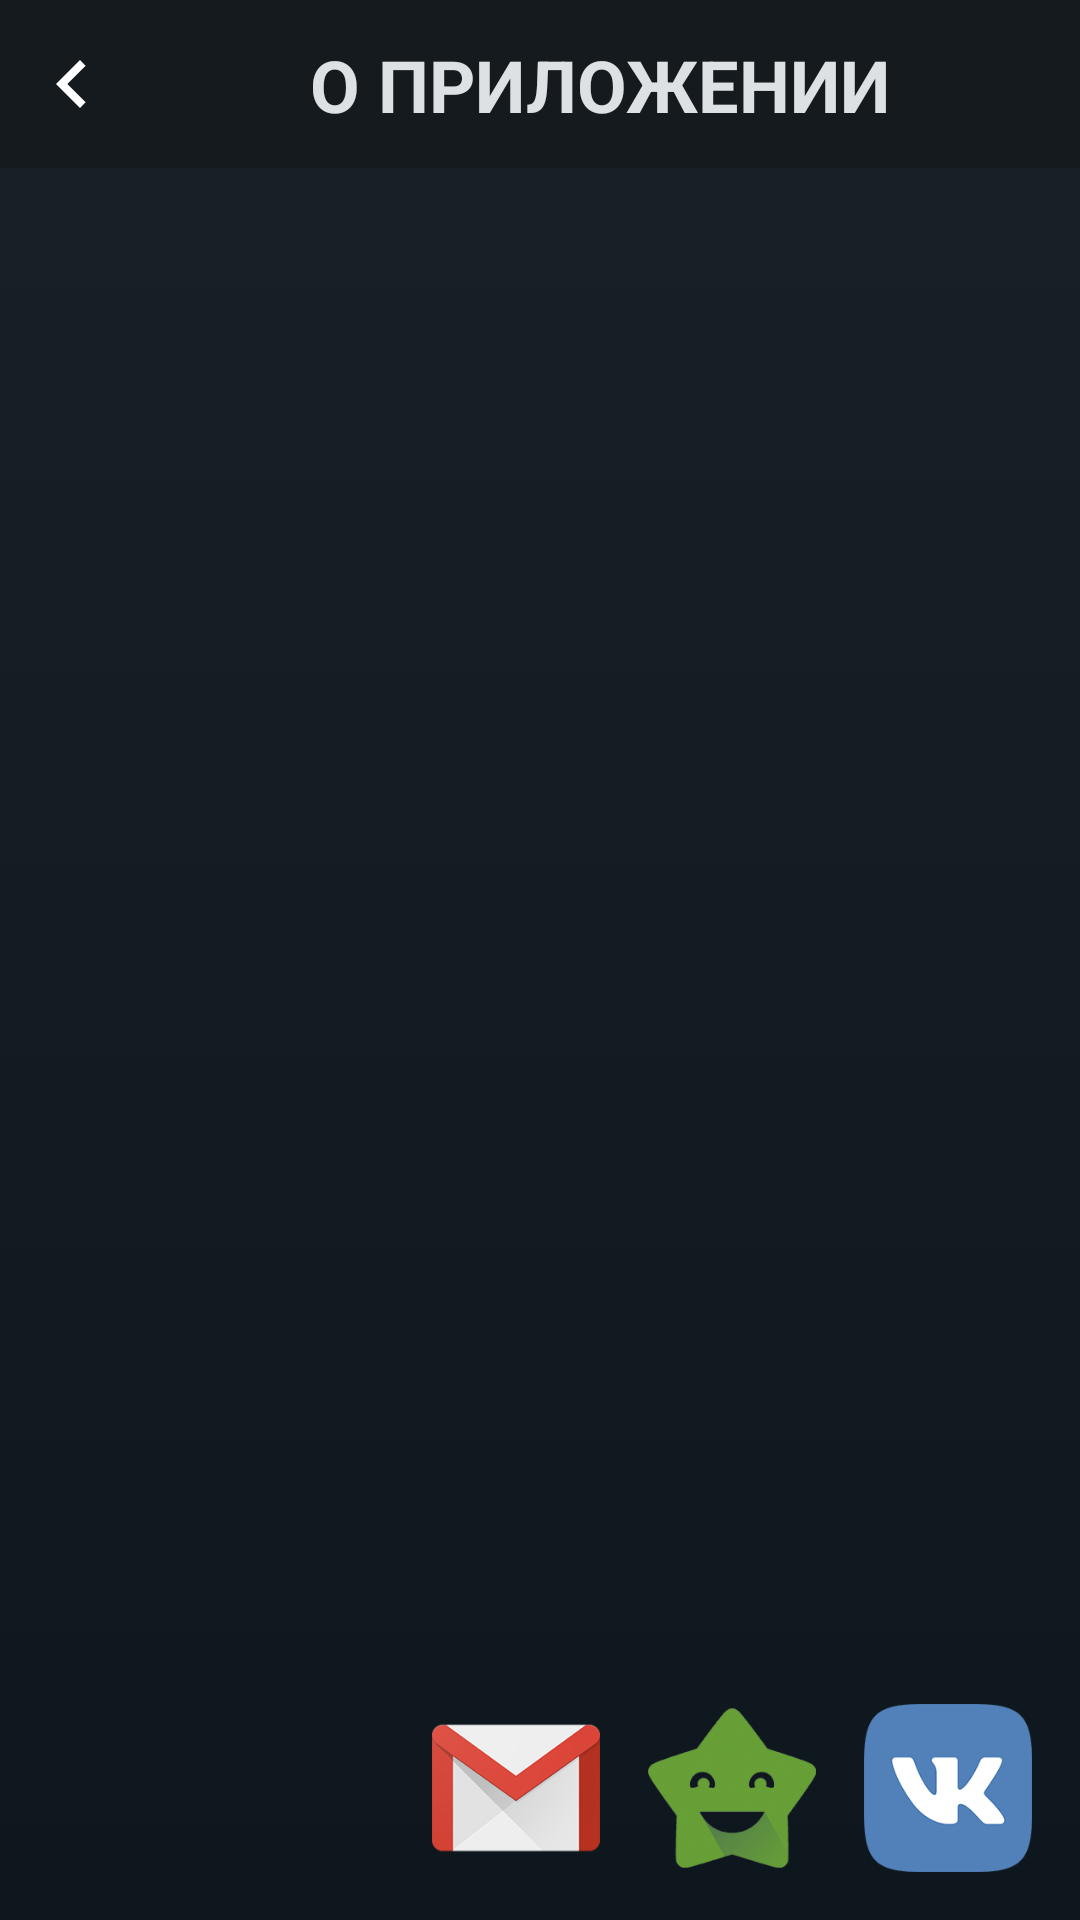

Icon click points for this 1080*1920 phone screenshot, format point (x, y):
system about star: point (732, 1788)
system back: point (71, 84)
